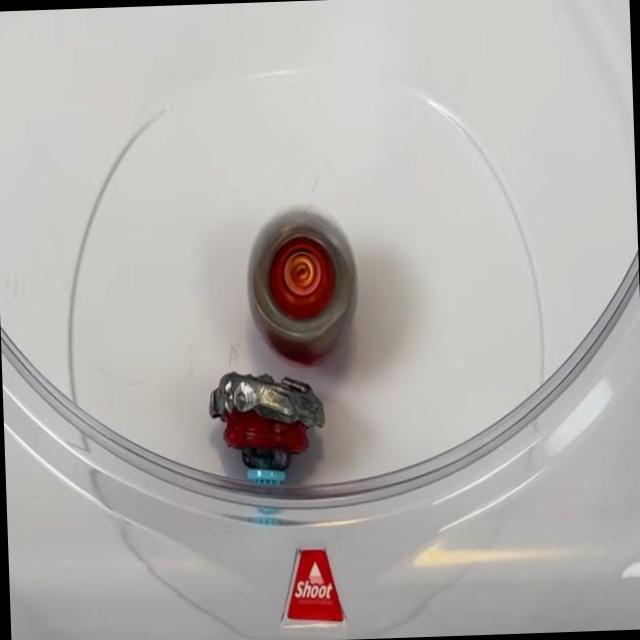Beyblade: (244, 207, 358, 366), (207, 367, 327, 481)
